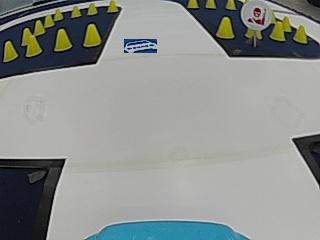evil: (241, 0, 273, 29)
